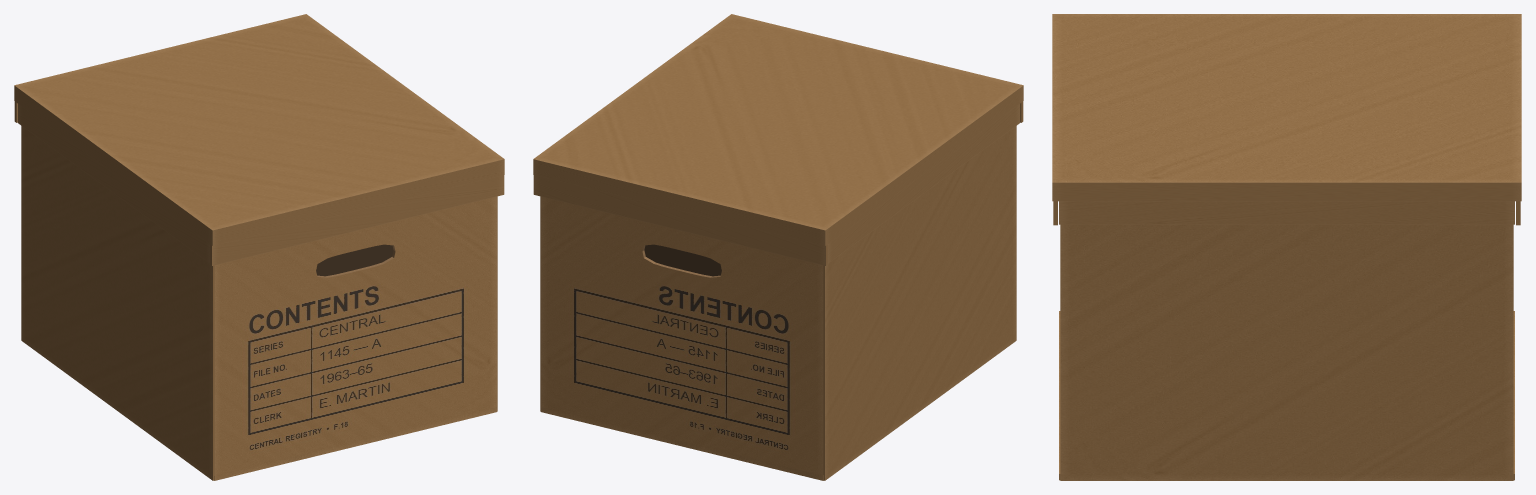
File: record_case_1.gltf
The picture shows the model from 3 angles, left to right: view 1: azimuth 30°, elevation 25°; view 2: azimuth 150°, elevation 25°; view 3: azimuth 270°, elevation 25°; orthographic projection. The views are drawn at different scales.
Parts seen in each view (by area): view 1: record_case_1; view 2: record_case_1; view 3: record_case_1.
Boxes of the visible parts, x1,y1,x2,y2 form: record_case_1: (14,14,504,480); record_case_1: (533,14,1023,480); record_case_1: (1052,14,1521,480).
Size of the model in its own units: 0.353 by 0.293 by 0.415.
Materials: 4 (2 with a texture image).
